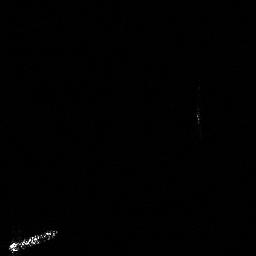ship: (9, 230, 59, 253)
